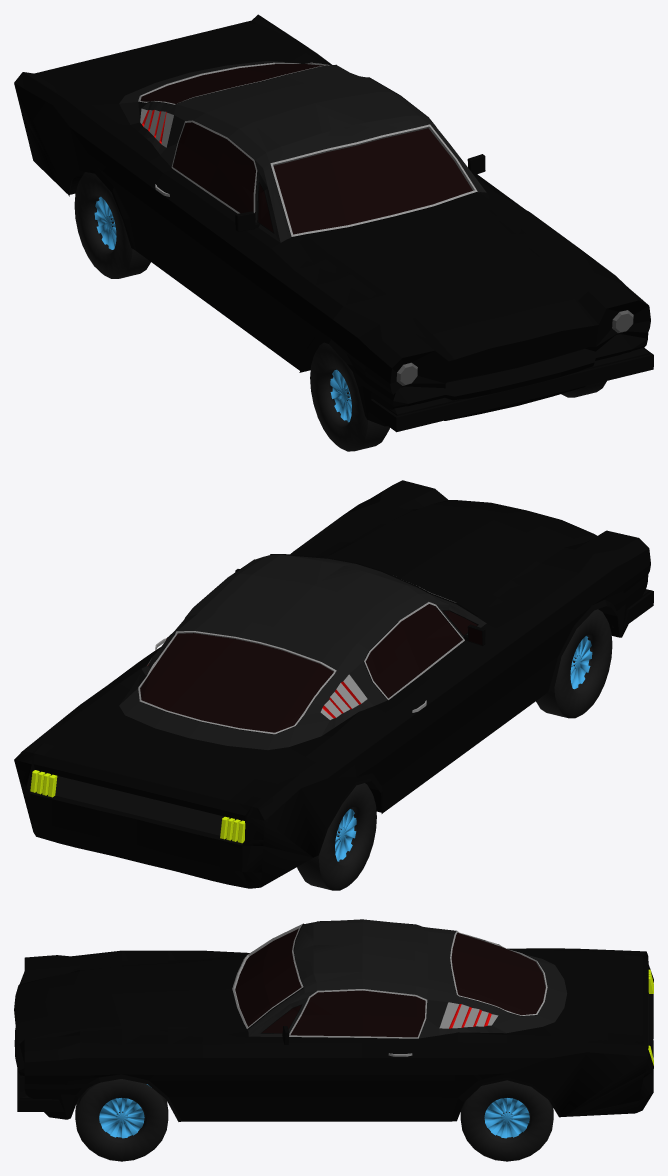
File: Mustang.fbx
The picture shows the model from 3 angles, top to bottom: view 1: azimuth 30°, elevation 25°; view 2: azimuth 150°, elevation 25°; view 3: azimuth 270°, elevation 25°; orthographic projection. The views are drawn at different scales.
Parts seen in each view (by area): view 1: Reifen; view 2: Reifen; view 3: Reifen.
Part boxes in pixels (x1=…): Reifen: x1=14, y1=14, x2=653, y2=451; Reifen: x1=14, y1=480, x2=653, y2=890; Reifen: x1=14, y1=919, x2=653, y2=1161.
Bounding box in the file's own units: 132 × 98.62 × 338.
